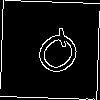Q: (25, 25, 87, 87)
